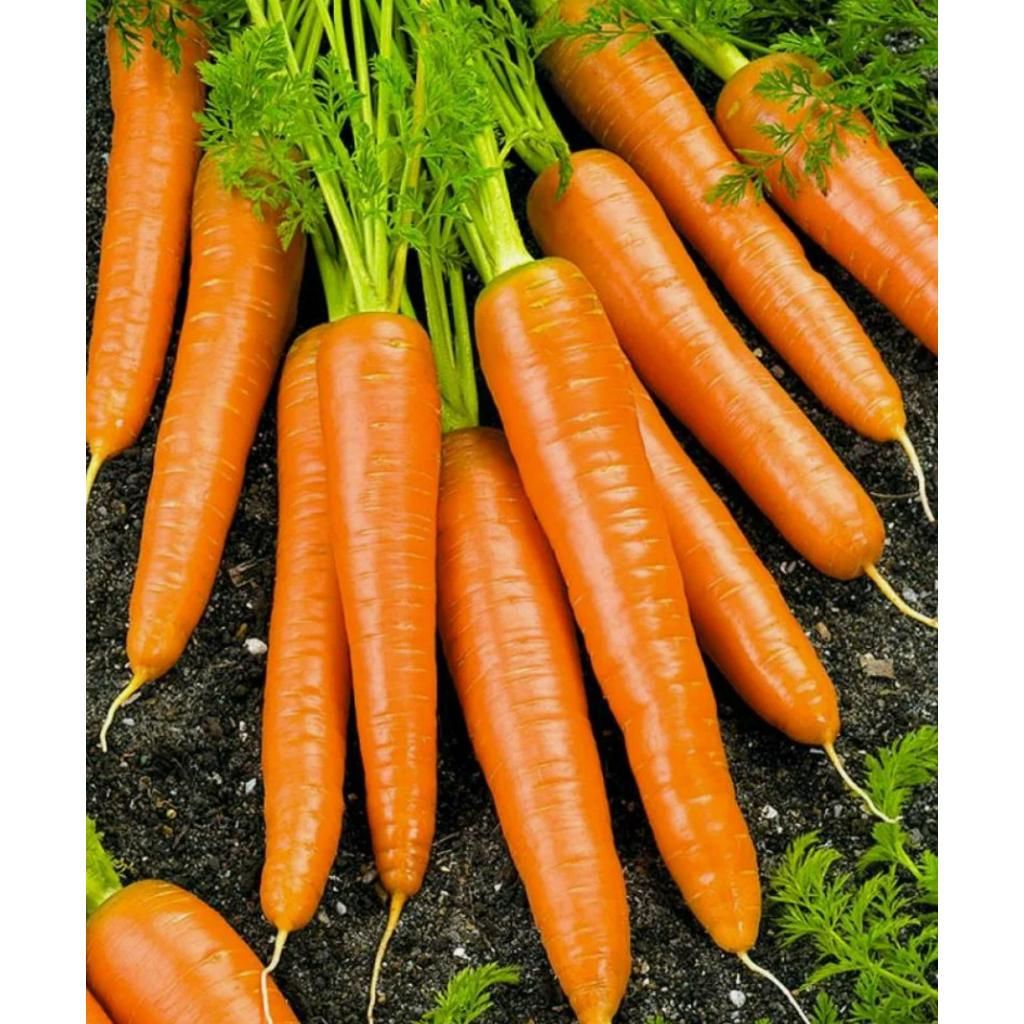carrot: (476, 258, 760, 952), (528, 150, 886, 578), (546, 34, 906, 440), (102, 158, 304, 739), (438, 428, 632, 1024), (634, 376, 840, 746), (318, 312, 442, 903), (716, 54, 938, 352), (86, 24, 206, 480), (260, 326, 350, 932), (86, 819, 300, 1024)
